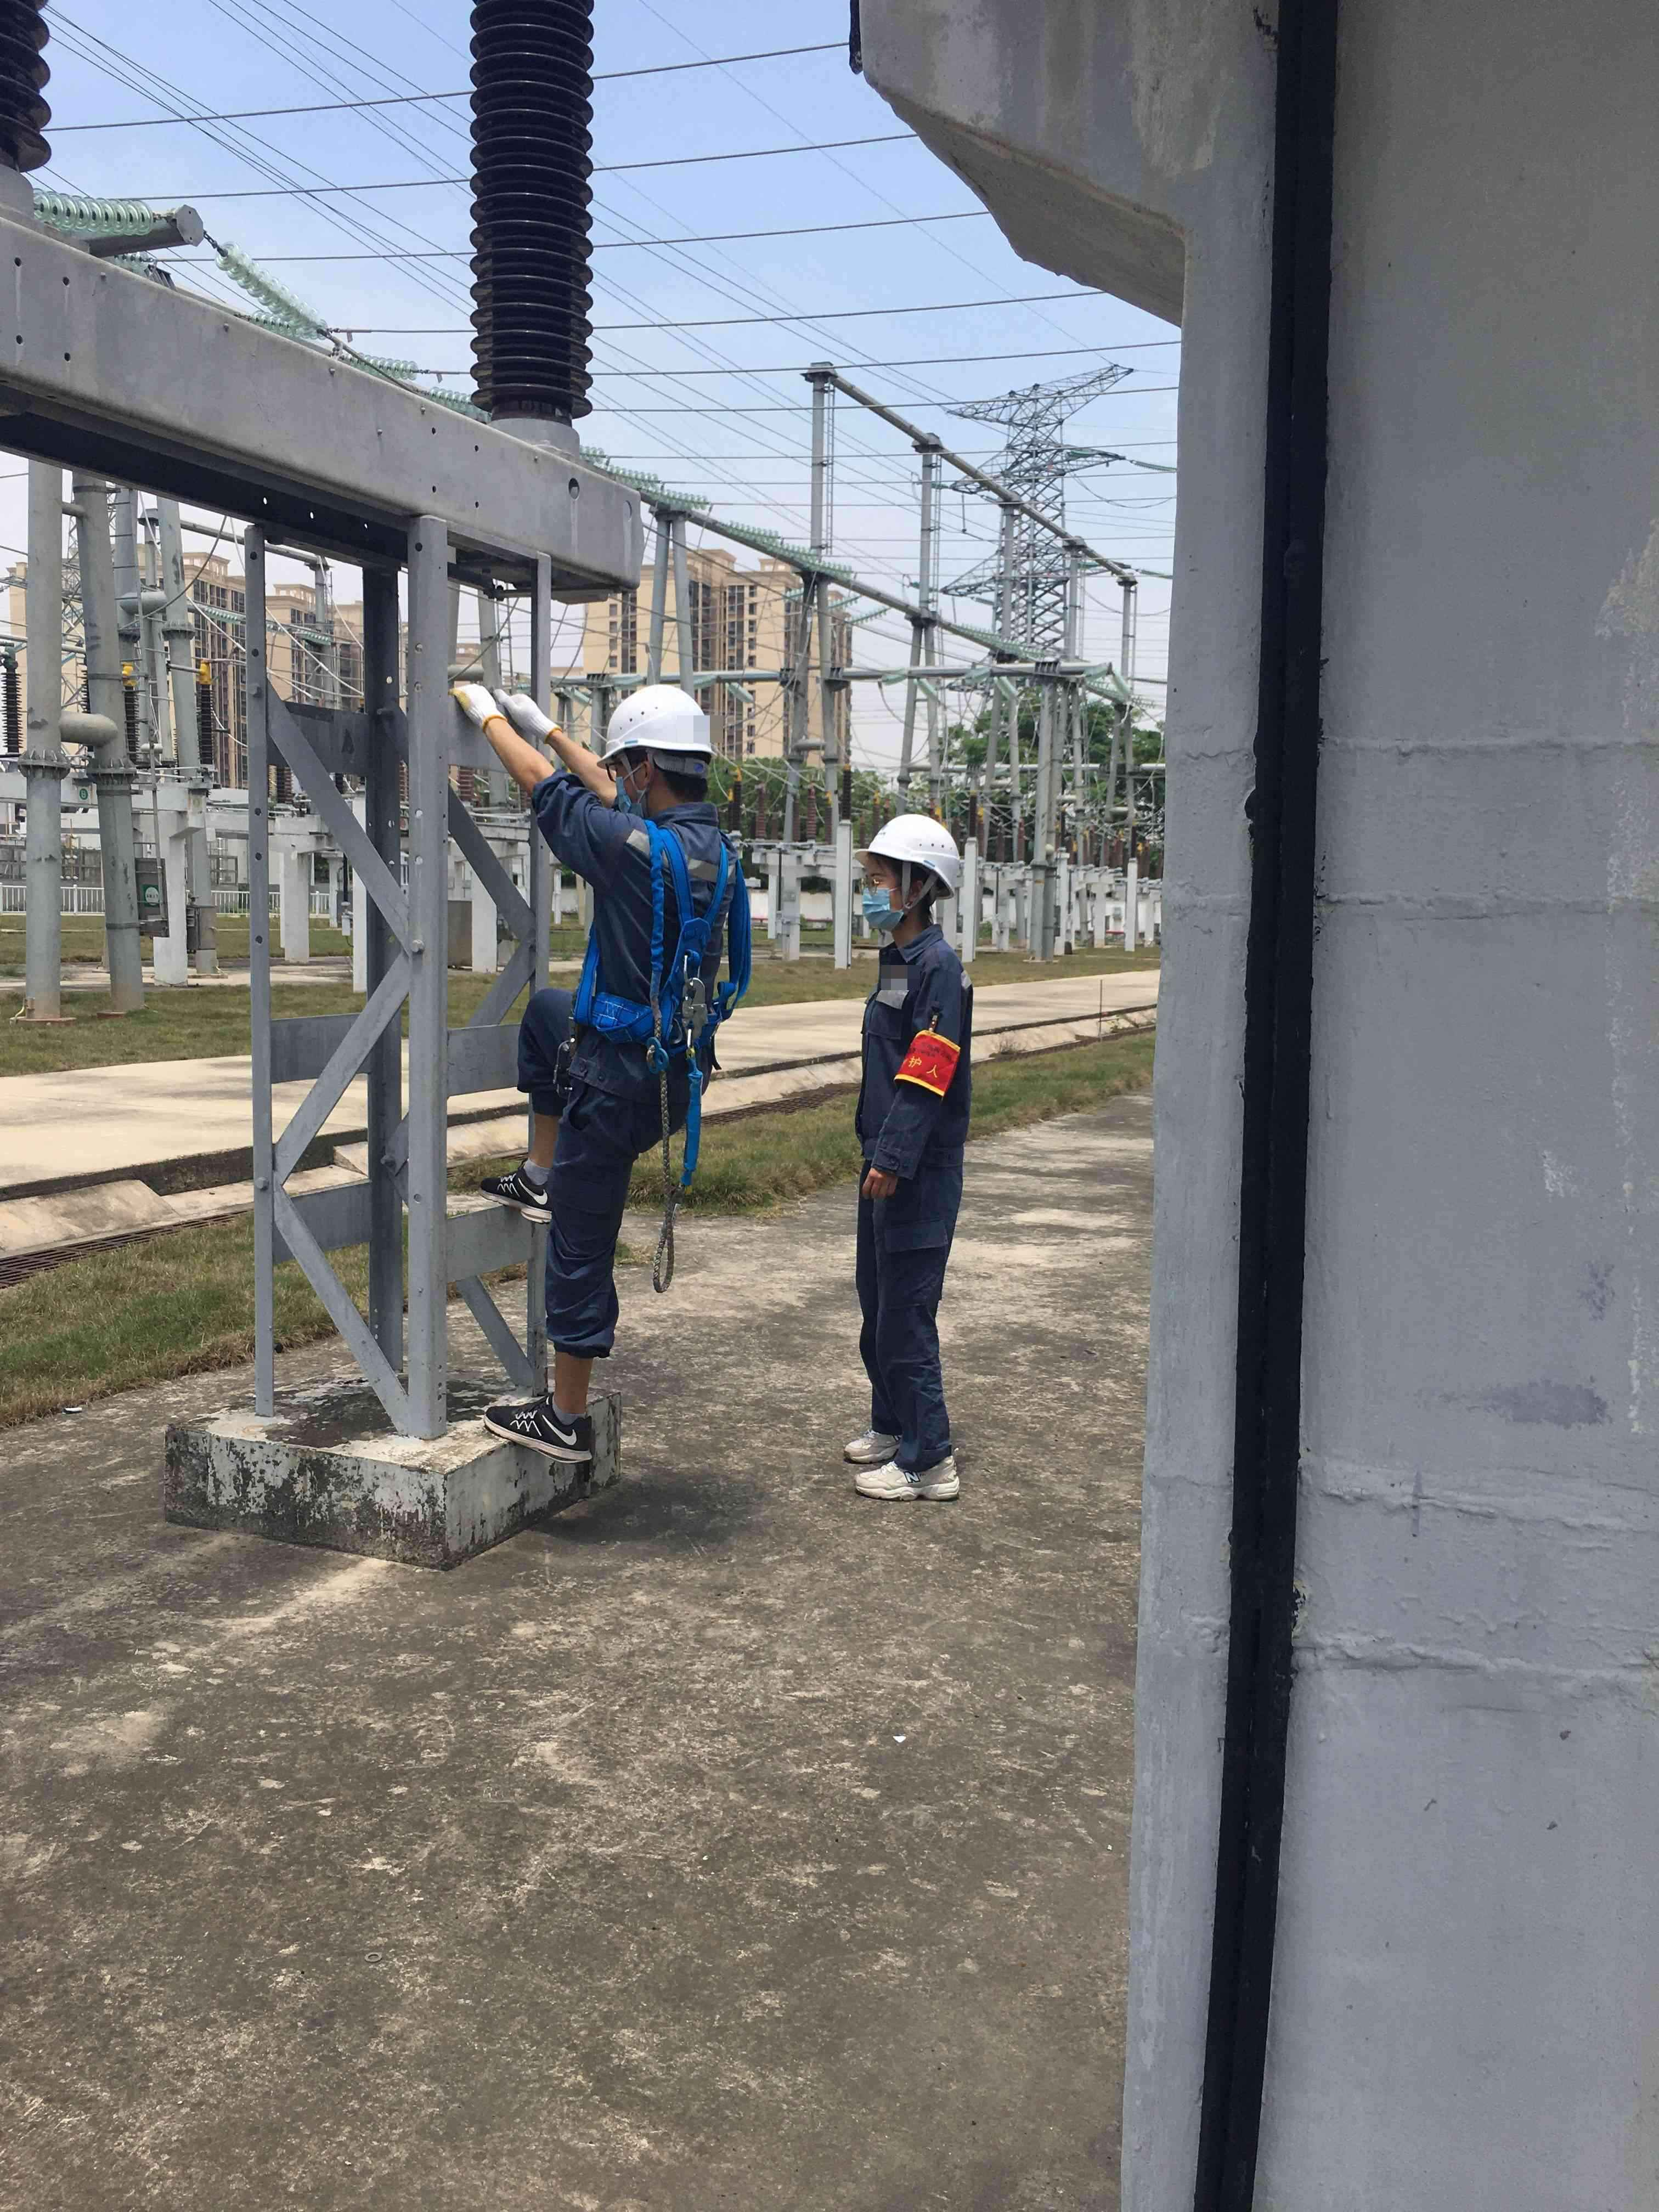downsuit: (511, 989, 720, 1359), (852, 1170, 965, 1474)
upsuit: (528, 766, 762, 1066), (856, 925, 978, 1188)
wrongbottom: (542, 1292, 624, 1421), (521, 1059, 566, 1170)
wrongtop: (481, 712, 626, 815)
